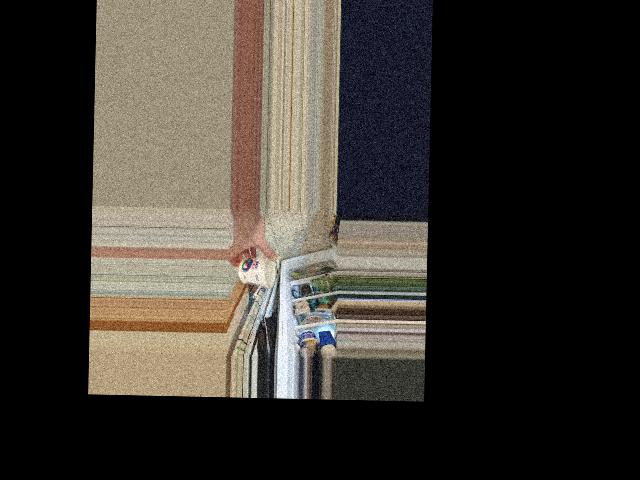cotage: (236, 254, 276, 288)
